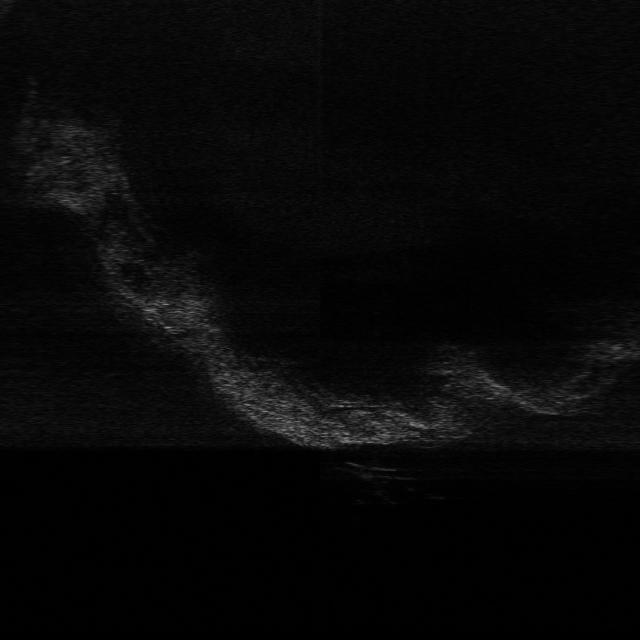plane: (334, 458, 416, 484)
